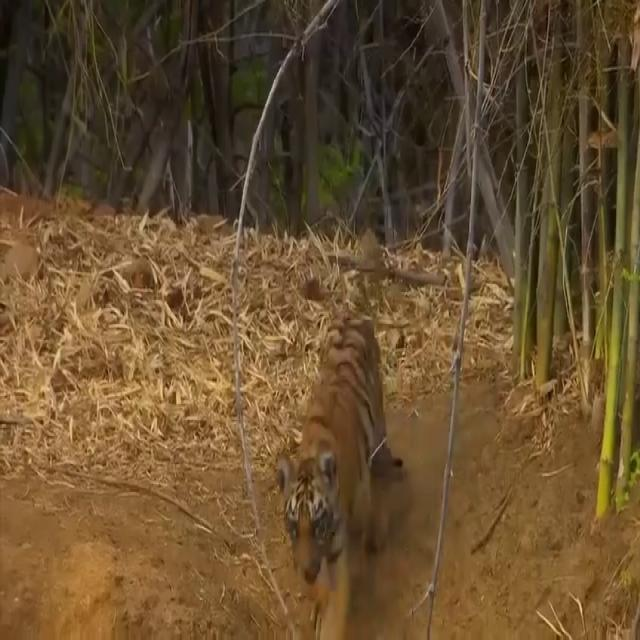tiger: (272, 296, 402, 640)
